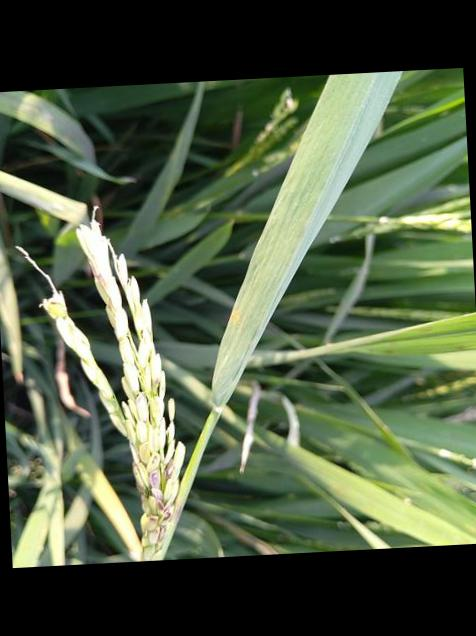Panicle Blight: (148, 470, 176, 524), (147, 526, 165, 549), (88, 256, 104, 280), (152, 353, 160, 384), (164, 460, 172, 480)
